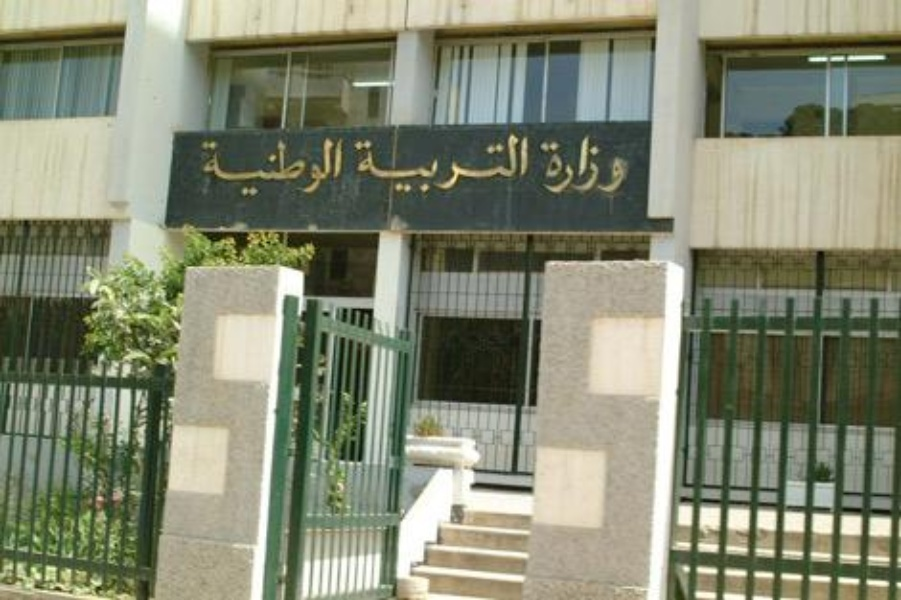text: (545, 133, 560, 196), (561, 133, 576, 196), (577, 133, 592, 196), (593, 133, 608, 196), (609, 133, 624, 196), (353, 135, 368, 196), (369, 135, 384, 196), (385, 135, 400, 196), (401, 135, 416, 196), (417, 135, 432, 196), (433, 135, 448, 196), (449, 135, 464, 196), (465, 135, 480, 196), (481, 135, 496, 196), (497, 135, 512, 196), (513, 135, 528, 196), (209, 135, 224, 196), (225, 135, 240, 196), (241, 135, 256, 196), (257, 135, 272, 196), (273, 135, 288, 196), (289, 135, 304, 196), (305, 135, 320, 196), (321, 135, 336, 196), (337, 135, 347, 196), (529, 135, 535, 196), (202, 135, 208, 196), (541, 133, 544, 196), (625, 133, 627, 196), (351, 135, 352, 196)
